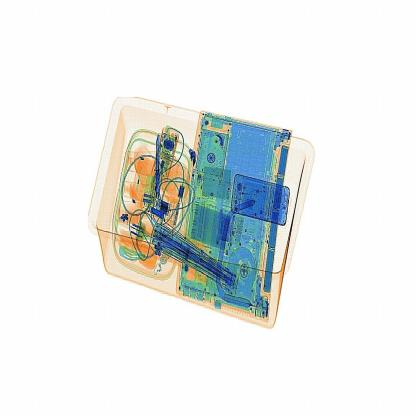pliers: (151, 129, 172, 200)
